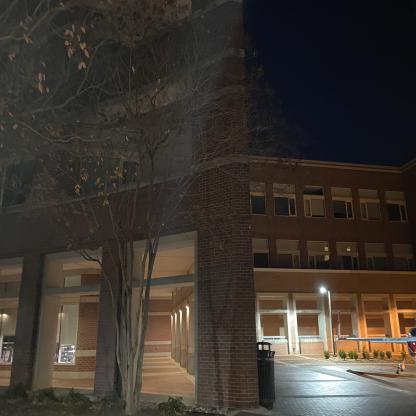eb2: (19, 4, 415, 390)
